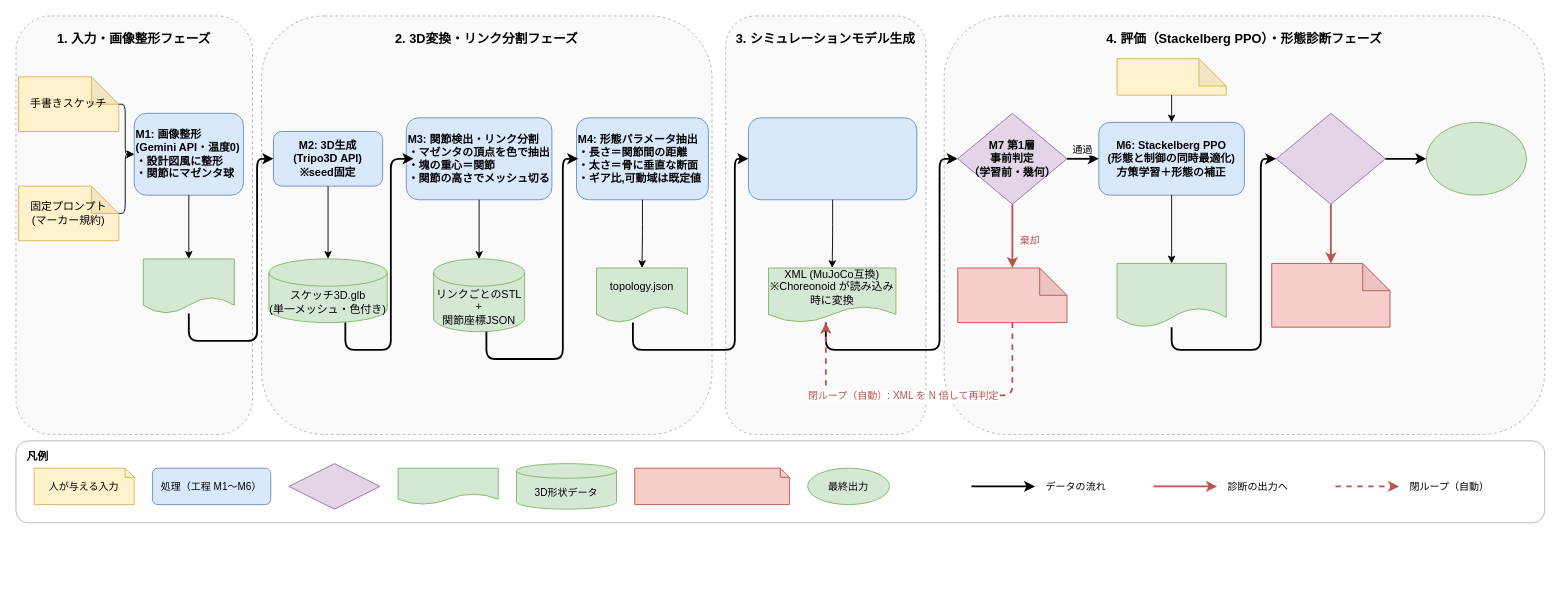
Image size: 1561x602. Some labels were removed from this diagram. Here are the shapes that lost their labels. From the top down, the centre of each, then its label:
the point at 1171,76: タスク定義 / 環境
the point at 832,158: M5: モデル生成 ・リンクをカプセルで近似 ・子を親の先端に取り付け ・関節軸を割り当て（既定: 縦型）
the point at 1330,158: M7 第2・3層 形態診断 （学習後）
the point at 1476,158: 形態診断をクリア したロボット
the point at 188,285: 整形スケッチ 画像.png
the point at 1012,295: 棄却＋倍率助言 （腕を N 倍に）
the point at 1171,295: 学習済みの方策と形 (best.p) 学習曲線・軌跡
the point at 1330,295: 指摘（報告のみ） 張り付き・戦略・ 使っていない関節
the point at 334,486: 判定（M7）
the point at 447,486: 出力ファイル
the point at 711,486: 診断の出力（棄却・助言・指摘）
